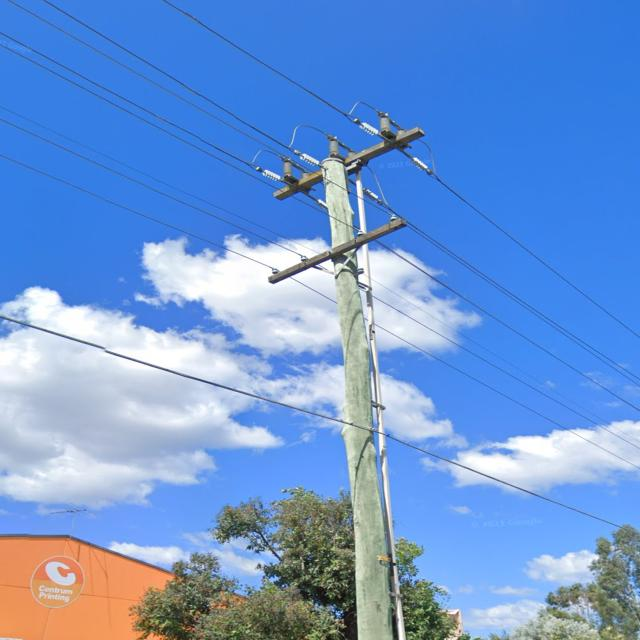HV-transmission: (255, 115, 425, 210)
crossarm: (272, 122, 426, 202), (268, 217, 405, 285)
timber-pole: (316, 155, 402, 633)
